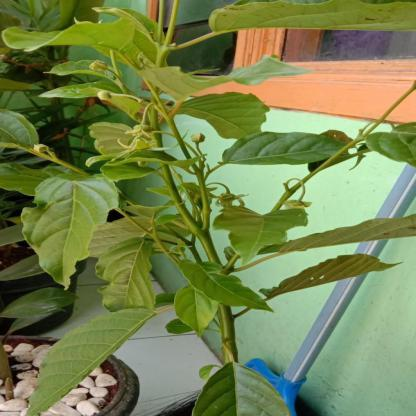Kenanga: (81, 113, 183, 171)
